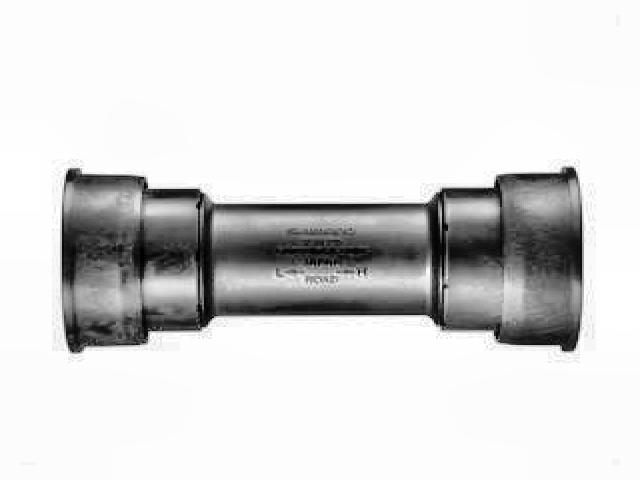bottom_bracket: (56, 165, 588, 357)
